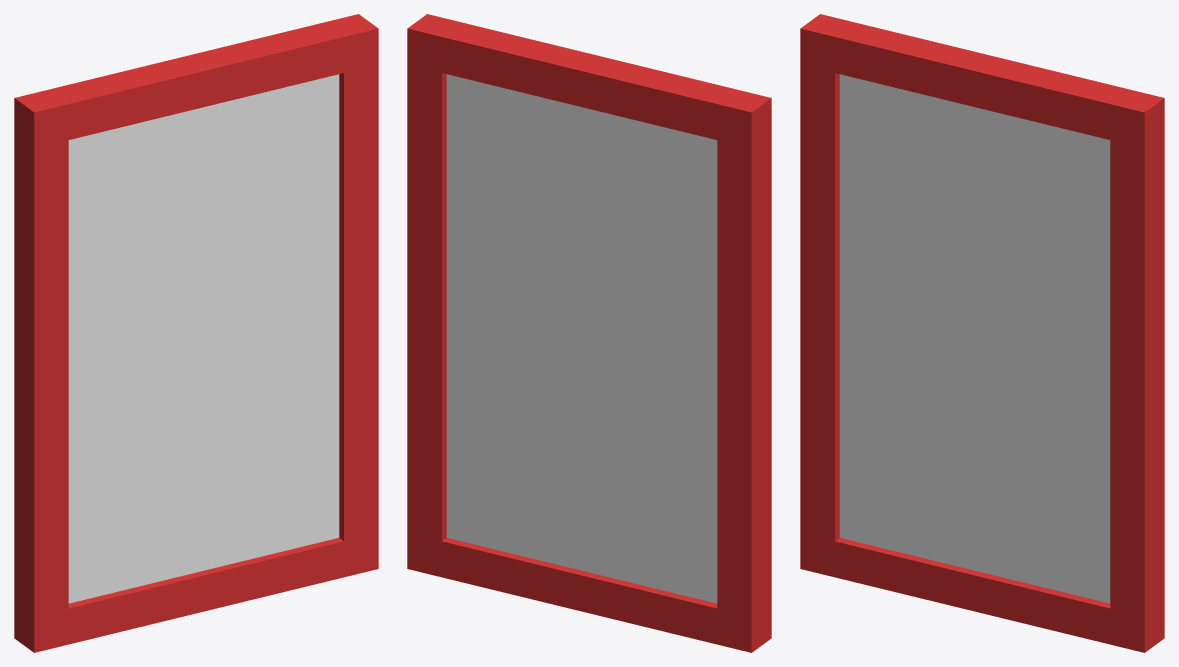
Rendered from Cleptomaniac MarktMedia Window Straight (Ground Floor).FBX.
3 views of the same model, side by side, from view 1: azimuth 30°, elevation 25°; view 2: azimuth 150°, elevation 25°; view 3: azimuth 330°, elevation 25° (orthographic).
Parts seen in each view (by area): view 1: Window Straight (Ground Floor); view 2: Window Straight (Ground Floor); view 3: Window Straight (Ground Floor).
Part boxes in pixels (x1,y1,x2,y2): Window Straight (Ground Floor): (14,14,378,652); Window Straight (Ground Floor): (407,14,771,652); Window Straight (Ground Floor): (800,14,1164,652).
Size of the model in its own units: 2 by 3 by 0.2.
